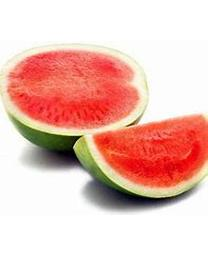watermelon: (0, 43, 151, 152), (72, 114, 206, 200)
